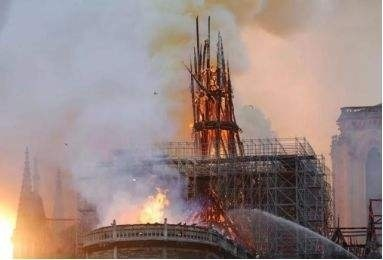fire: (119, 187, 170, 224)
